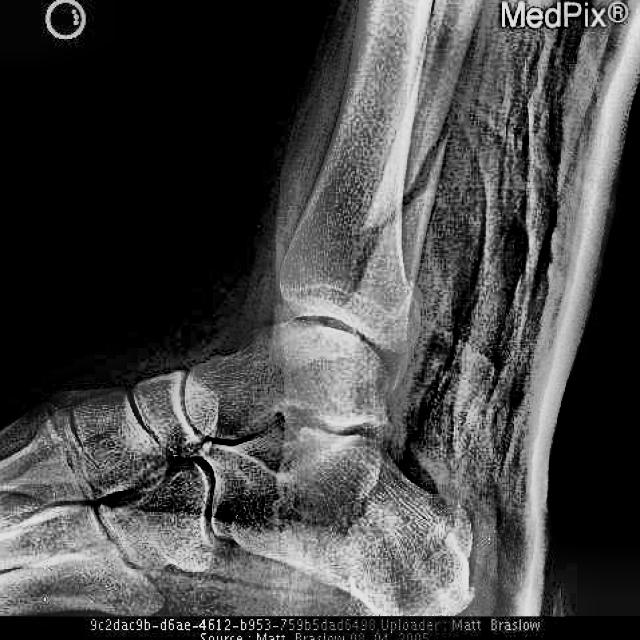line: (338, 142, 444, 302)
